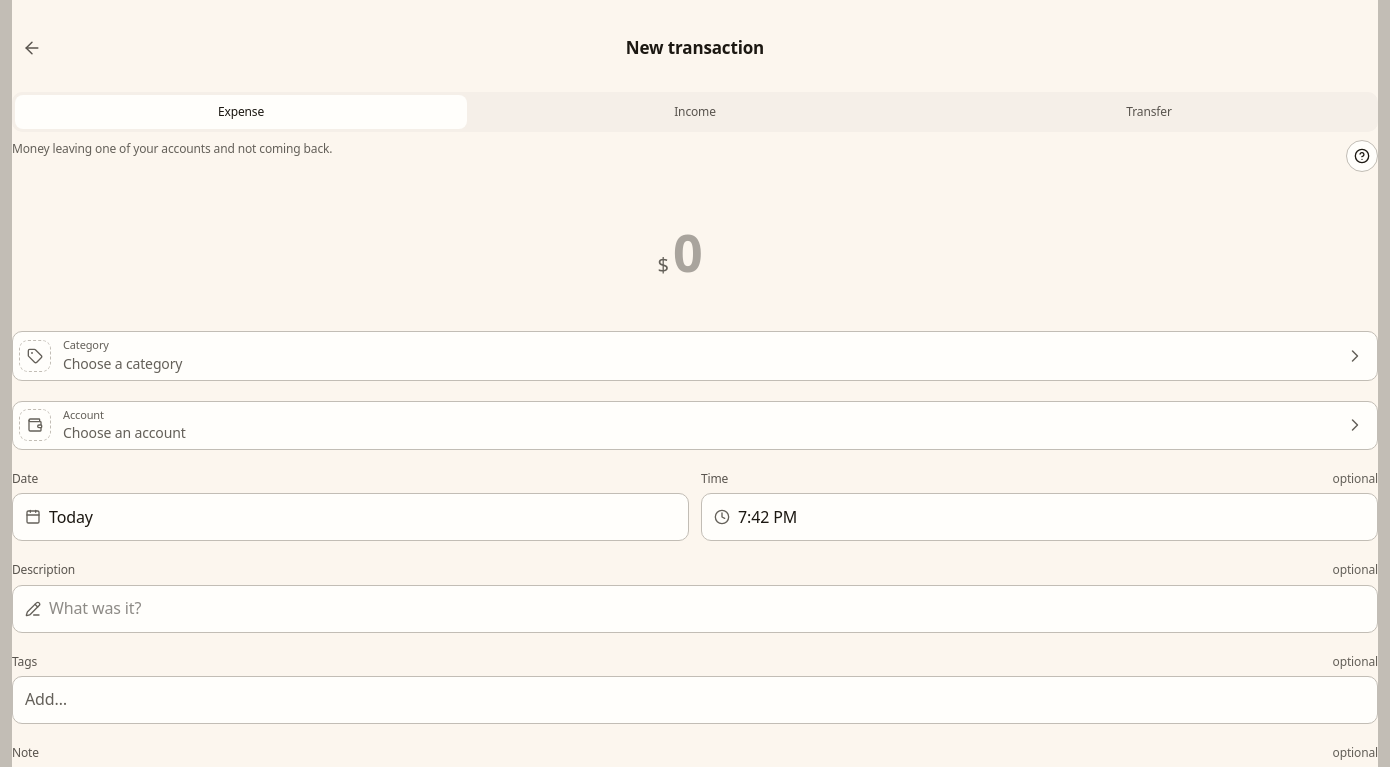
it: NewTransactionScreen › offers three types and explains the selected one
Expected: the text "Money leaving one of your accounts and not coming back." is shown, 12,140 -> 332,157
Step 1. Click the button "Income" → click(695, 112), box 469,95 -> 921,129
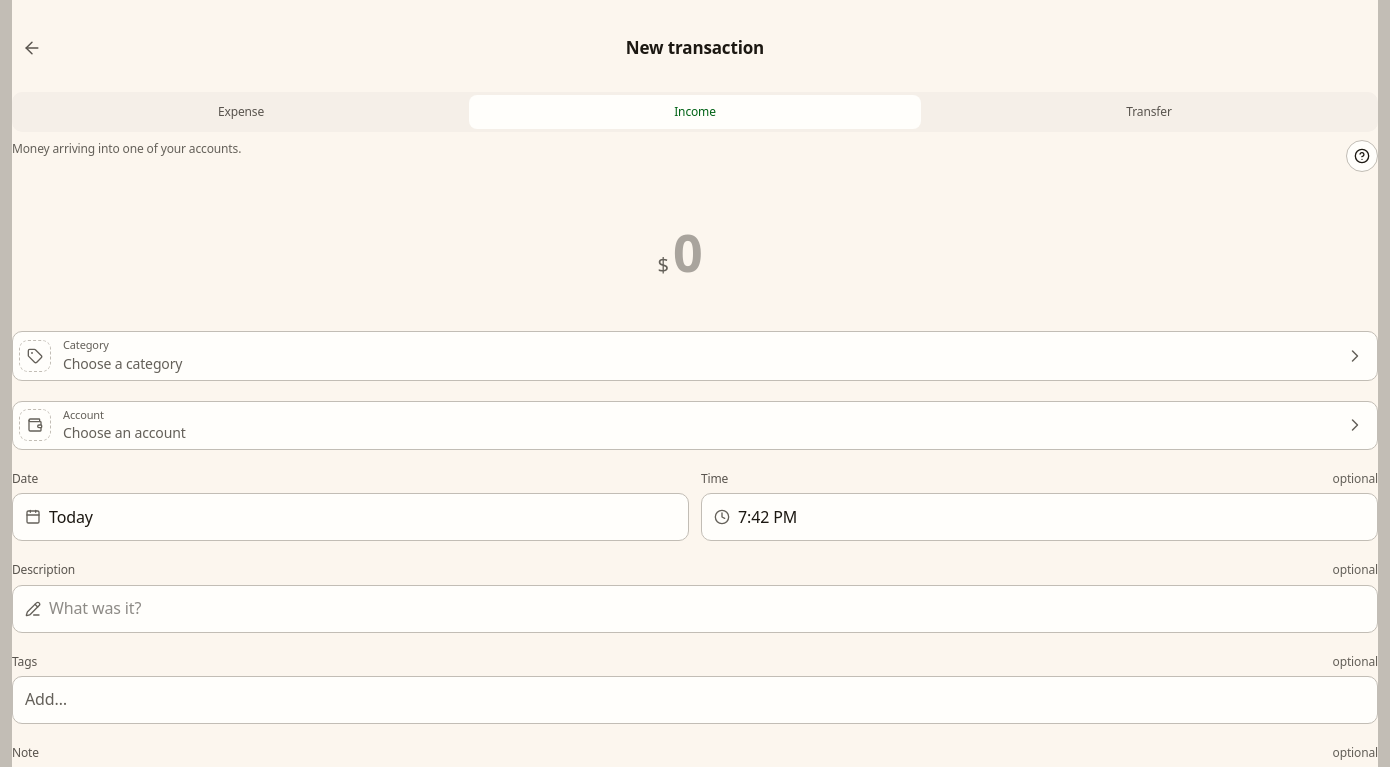
Now the text "Money arriving into one of your accounts." is shown, box 12,140 -> 241,157
